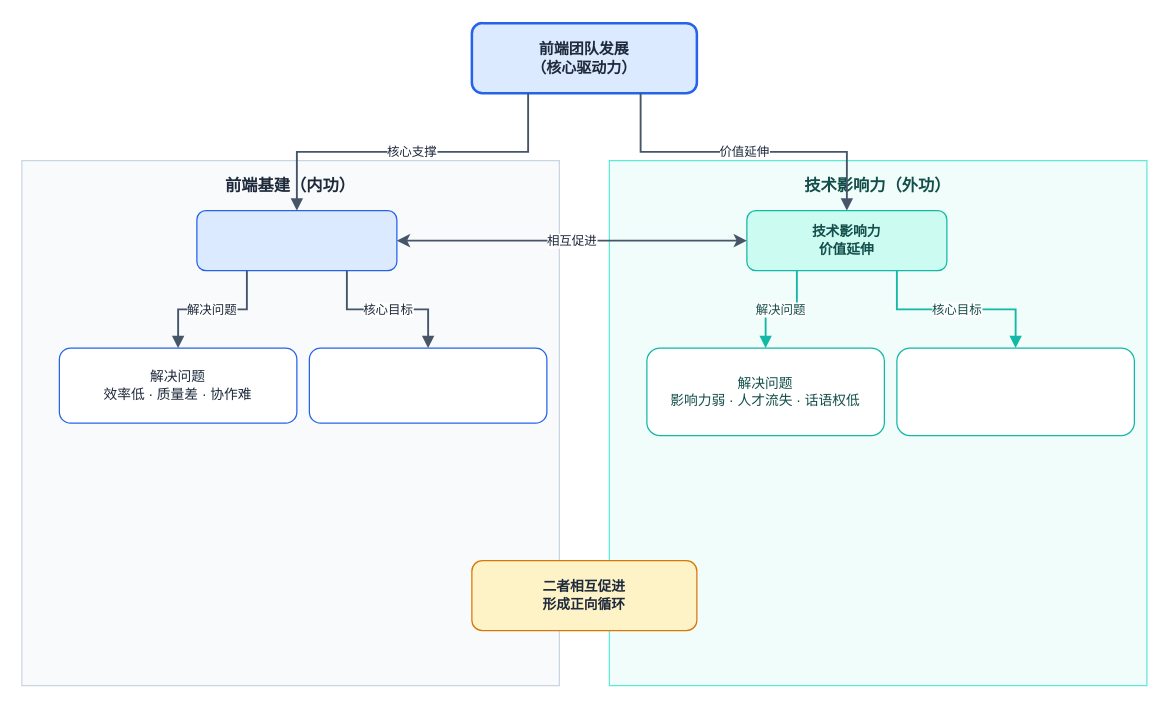
Some shapes in this 1169 by 708 pixel diagram are drawn without their labels. Each missing label, with the centre of its shape:
前端基建 核心支撑: the point at 296,240
核心目标 标准化 · 自动化 · 可复用: the point at 427,385
核心目标 沉淀技术 · 辐射价值 · 凝聚人才: the point at 1015,391
